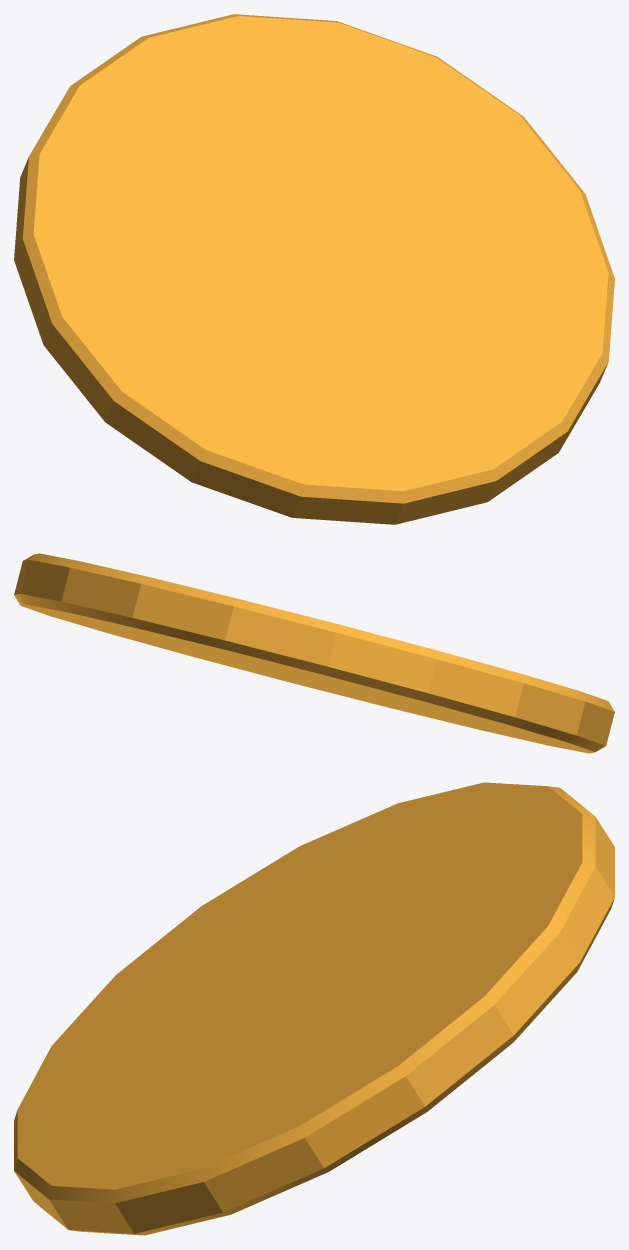
The picture shows the model from 3 angles, top to bottom: view 1: azimuth 30°, elevation 25°; view 2: azimuth 150°, elevation 25°; view 3: azimuth 270°, elevation 25°; orthographic projection. The views are drawn at different scales.
Parts seen in each view (by area): view 1: disk; view 2: disk; view 3: disk.
Boxes of the visible parts, x1,y1,x2,y2 form: disk: (14,14,614,524); disk: (14,553,614,753); disk: (14,782,614,1235).
Size of the model in its own units: 0.07 by 0.0387 by 0.0617.
